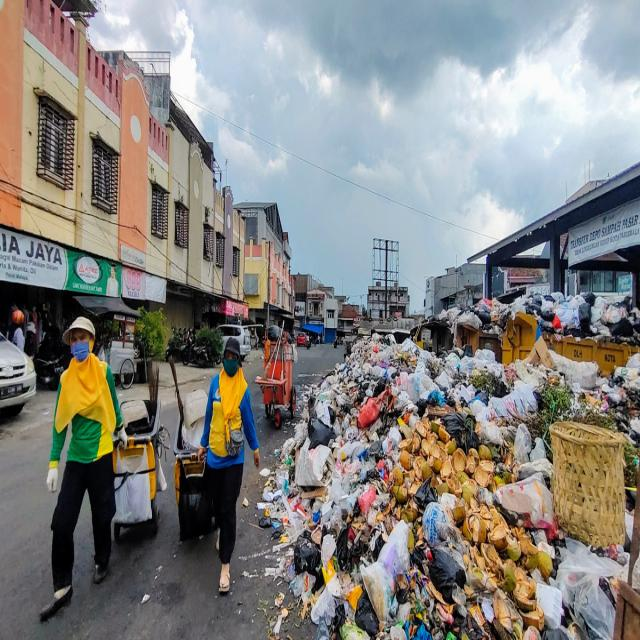trash: (303, 266, 640, 640)
